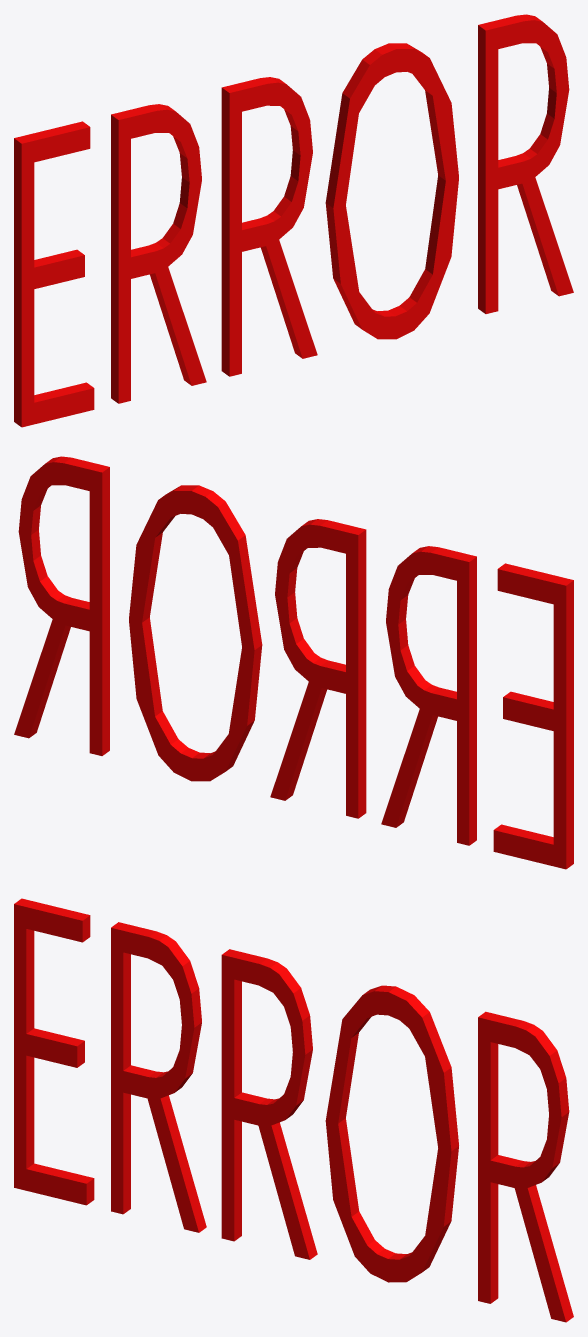
Rendered from error.obj.
3 views of the same model, one above another, from view 1: azimuth 30°, elevation 25°; view 2: azimuth 150°, elevation 25°; view 3: azimuth 330°, elevation 25° (orthographic).
Parts seen in each view (by area): view 1: object_4, object_3, object_5, object_2, object_1; view 2: object_4, object_3, object_5, object_2, object_1; view 3: object_4, object_3, object_5, object_2, object_1.
Part boxes in pixels (bbox=[...]): object_4: bbox=[325, 43, 458, 339]; object_3: bbox=[221, 77, 317, 376]; object_5: bbox=[478, 14, 573, 313]; object_2: bbox=[111, 104, 206, 403]; object_1: bbox=[14, 121, 94, 427]; object_4: bbox=[129, 485, 262, 781]; object_3: bbox=[270, 519, 366, 818]; object_5: bbox=[14, 456, 109, 755]; object_2: bbox=[381, 546, 476, 845]; object_1: bbox=[493, 563, 573, 869]; object_4: bbox=[325, 985, 458, 1282]; object_3: bbox=[221, 949, 317, 1259]; object_5: bbox=[478, 1011, 573, 1322]; object_2: bbox=[111, 922, 206, 1232]; object_1: bbox=[14, 898, 94, 1205].
Bounding box in the file's own units: 2.07 × 1.04 × 0.05.
Materials: 1 (1 with a texture image).
